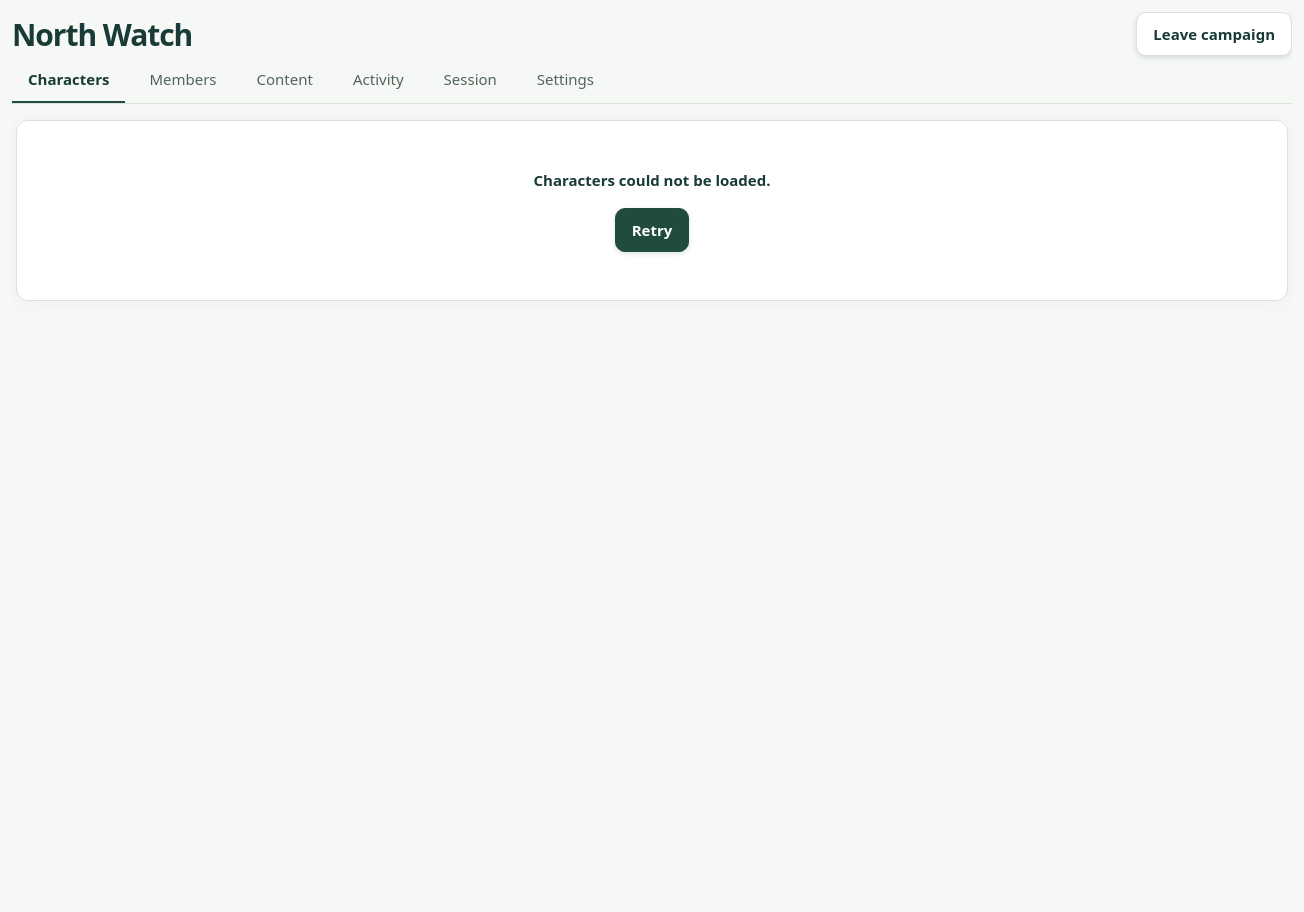
Scenario: CampaignDetail members tab › shows a Settings tab with management sections to the campaign owner
This screenshot has width=1304, height=912.
Step 1. Click the tab "Settings" → (565, 80), box [521,58,610,102]
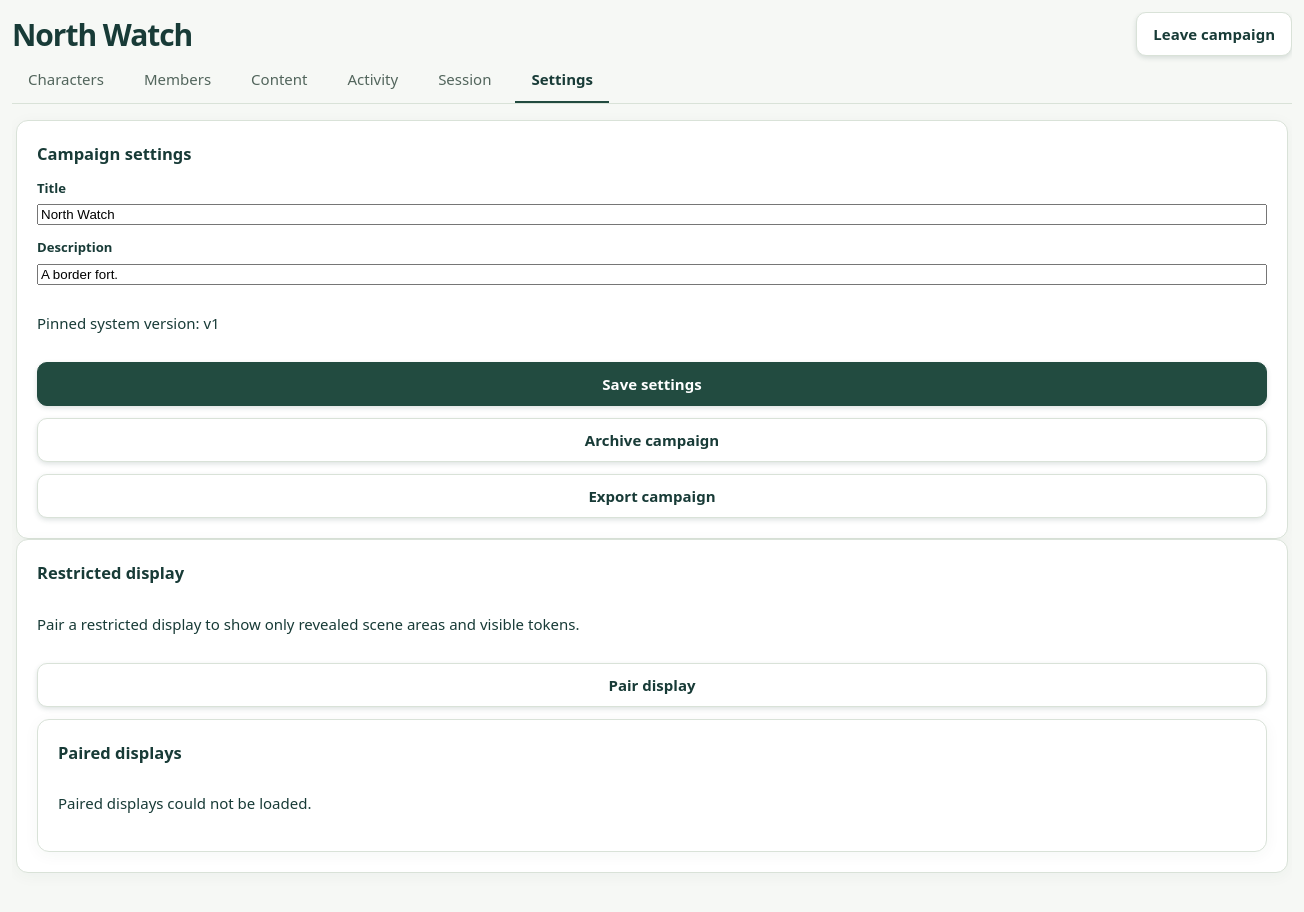
Expected: the heading "Campaign settings" is shown, [37,140,192,166]
